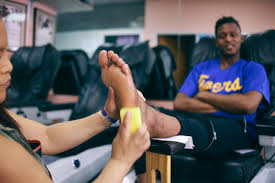black_male: (210, 20, 242, 57)
